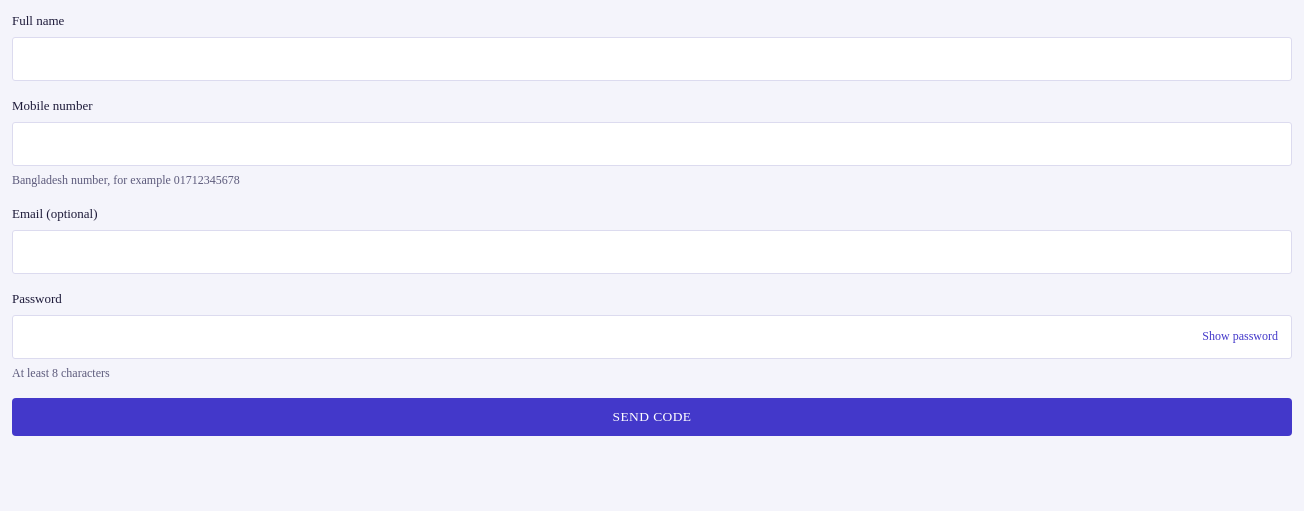
Scenario: SignupForm › shows a taken phone as a friendly error and stays on step one
Type "R" into the field labelled "Full name" at (652, 59), box left=12, top=37, right=1292, bottom=81
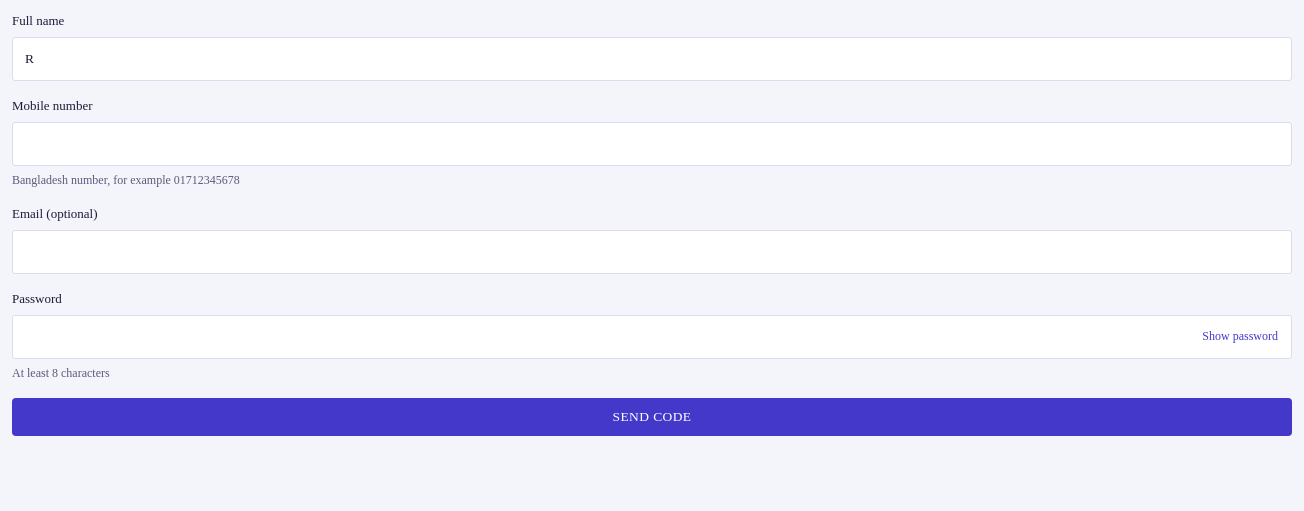
Type "01712345678" into the field labelled "Mobile number" at (652, 144), box left=12, top=122, right=1292, bottom=166
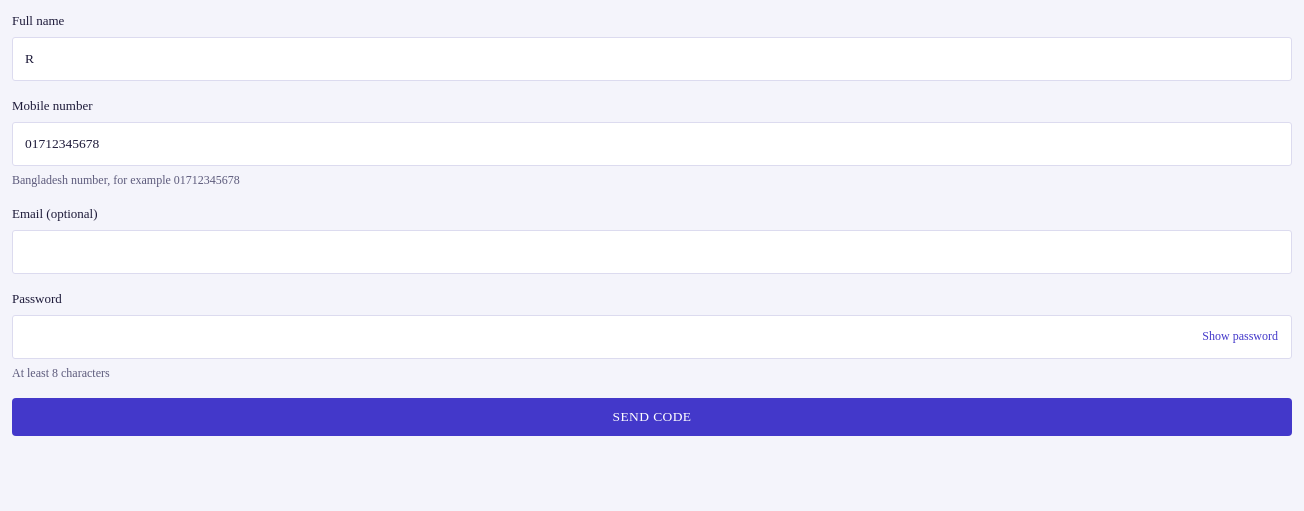
Type "secret123" into the password field labelled "Password" at (652, 337), box left=12, top=315, right=1292, bottom=359
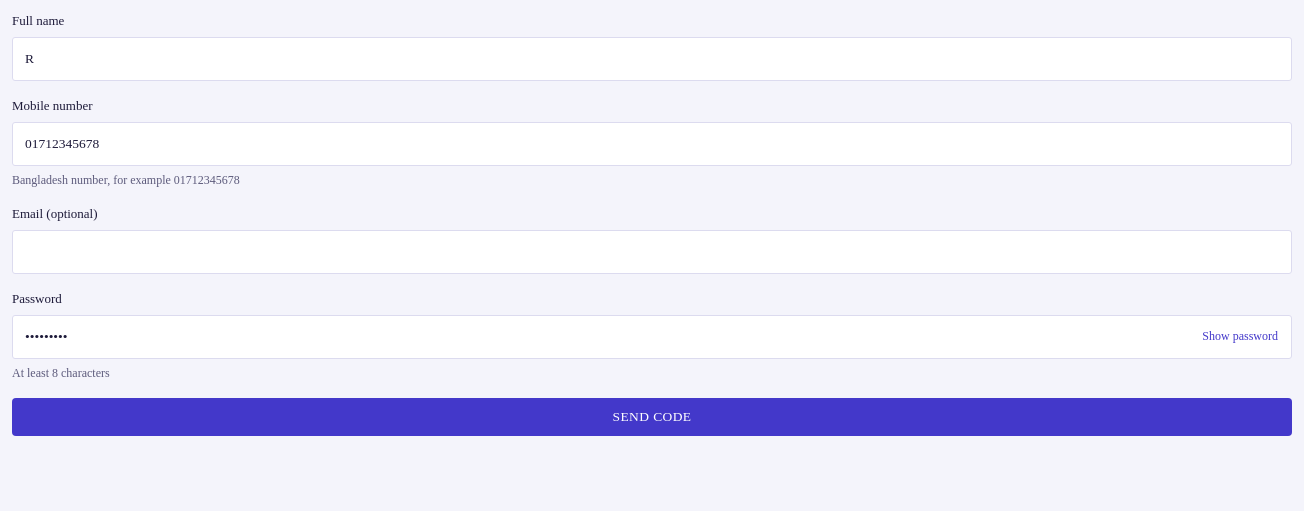
Click the button "Send code" at (652, 417), box left=12, top=398, right=1292, bottom=436
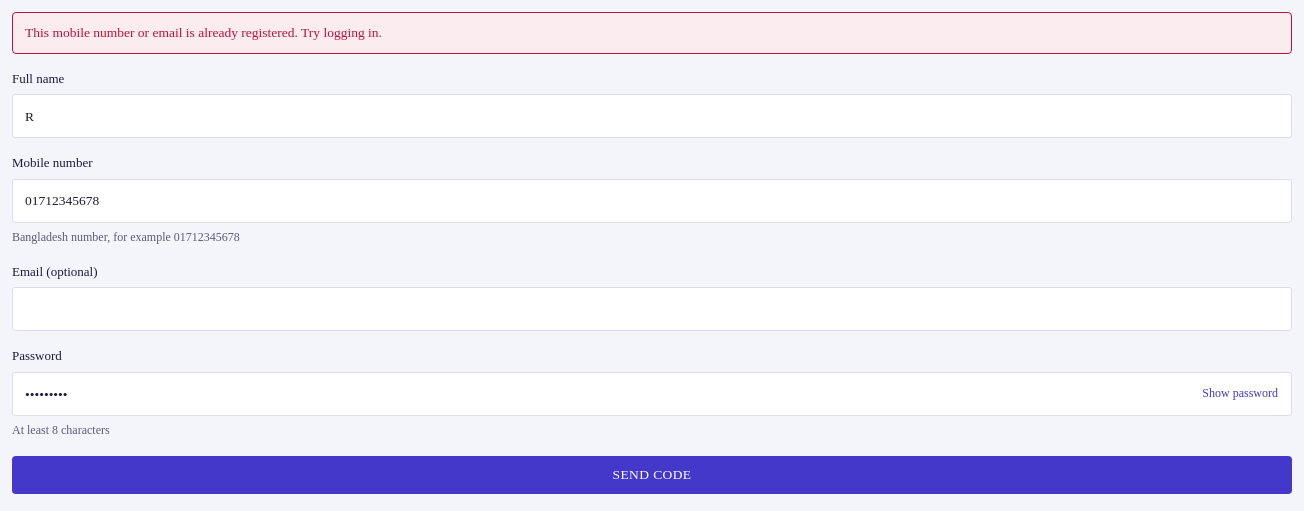
Now the message reads "This mobile number or email is already registered. Try logging in.", box left=25, top=25, right=382, bottom=40
